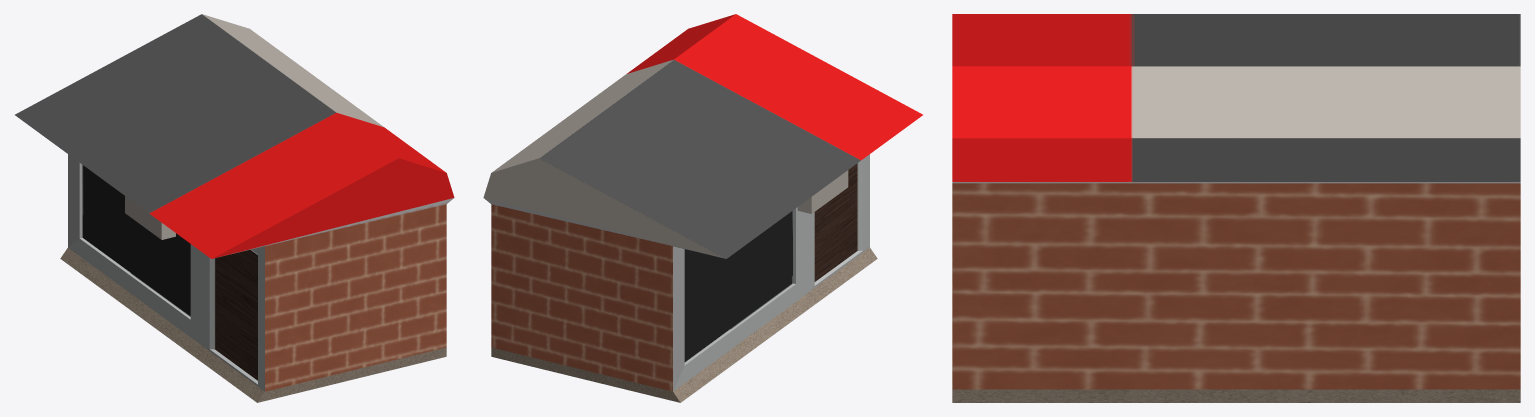
The model's file is Building.fbx.
3 views of the same model, side by side, from view 1: azimuth 30°, elevation 25°; view 2: azimuth 150°, elevation 25°; view 3: azimuth 270°, elevation 25° (orthographic). The views are drawn at different scales.
Parts seen in each view (by area): view 1: Building 1; view 2: Building 1; view 3: Building 1.
Boxes of the visible parts, x1=… form: Building 1: x1=15, y1=14, x2=454, y2=402; Building 1: x1=483, y1=14, x2=922, y2=402; Building 1: x1=952, y1=14, x2=1520, y2=402.
Size of the model in its own units: 640 by 529 by 898.
